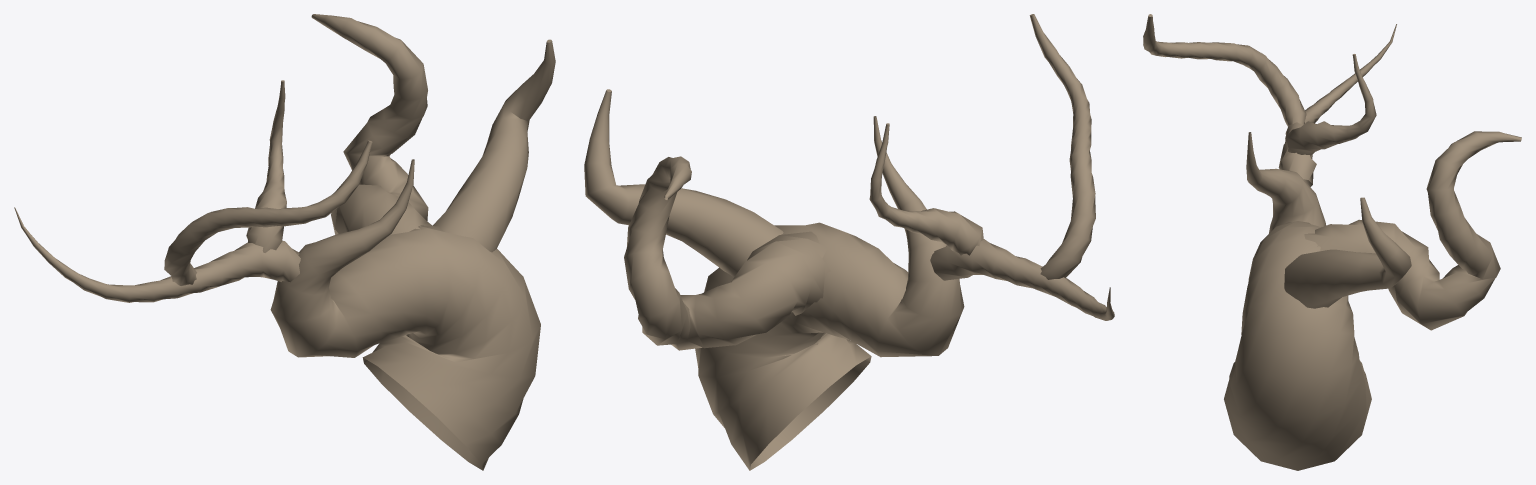
File: BareWeepingWillowDoNotReUse.fbx
The picture shows the model from 3 angles, left to right: view 1: azimuth 30°, elevation 25°; view 2: azimuth 150°, elevation 25°; view 3: azimuth 270°, elevation 25°; orthographic projection. The views are drawn at different scales.
Parts seen in each view (by area): view 1: sweep1, sweep6, sweep3, sweep2, sweep4, sweep5; view 2: sweep1, sweep6, sweep3, sweep4, sweep2, sweep5; view 3: sweep1, sweep6, sweep3, sweep4, sweep5, sweep2.
Boxes of the visible parts, x1=… form: sweep1: x1=270, y1=159, x2=540, y2=470; sweep6: x1=311, y1=14, x2=432, y2=234; sweep3: x1=432, y1=39, x2=555, y2=252; sweep2: x1=14, y1=207, x2=300, y2=302; sweep4: x1=164, y1=140, x2=372, y2=285; sweep5: x1=246, y1=80, x2=286, y2=252; sweep1: x1=695, y1=116, x2=964, y2=470; sweep6: x1=624, y1=156, x2=830, y2=350; sweep3: x1=584, y1=89, x2=783, y2=276; sweep4: x1=1029, y1=14, x2=1095, y2=279; sweep2: x1=930, y1=239, x2=1114, y2=320; sweep5: x1=869, y1=123, x2=983, y2=255; sweep1: x1=1224, y1=132, x2=1371, y2=470; sweep6: x1=1304, y1=131, x2=1521, y2=330; sweep3: x1=1284, y1=197, x2=1411, y2=308; sweep4: x1=1143, y1=14, x2=1306, y2=126; sweep5: x1=1286, y1=54, x2=1376, y2=156; sweep2: x1=1278, y1=24, x2=1396, y2=186.
Size of the model in its own units: 29.86 by 23.14 by 21.03.
